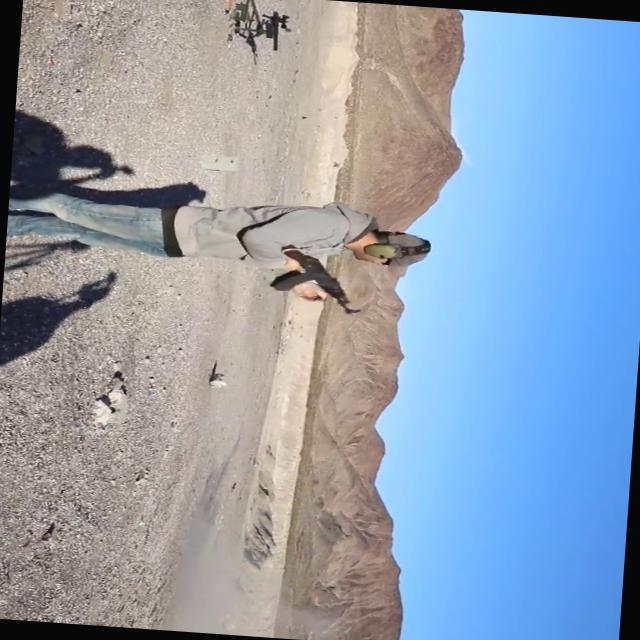long weapon: (250, 232, 365, 314), (230, 3, 304, 58)
